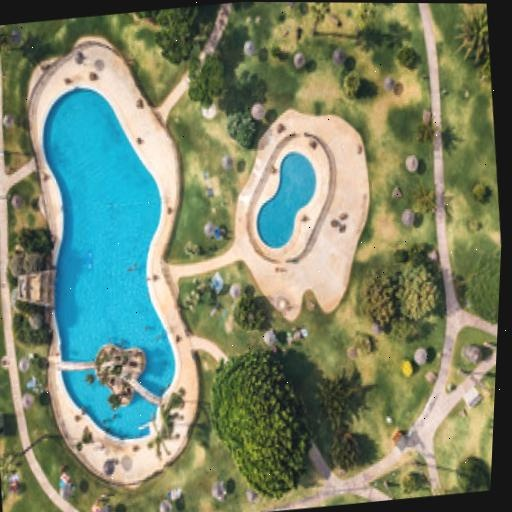tree-top: (201, 349, 322, 506), (389, 257, 448, 327), (459, 244, 501, 336), (151, 6, 204, 64), (184, 50, 231, 109), (228, 286, 274, 346), (357, 275, 402, 329), (311, 370, 348, 428), (455, 3, 491, 59), (452, 455, 489, 494), (330, 430, 361, 475), (225, 108, 258, 150), (0, 24, 14, 56)
